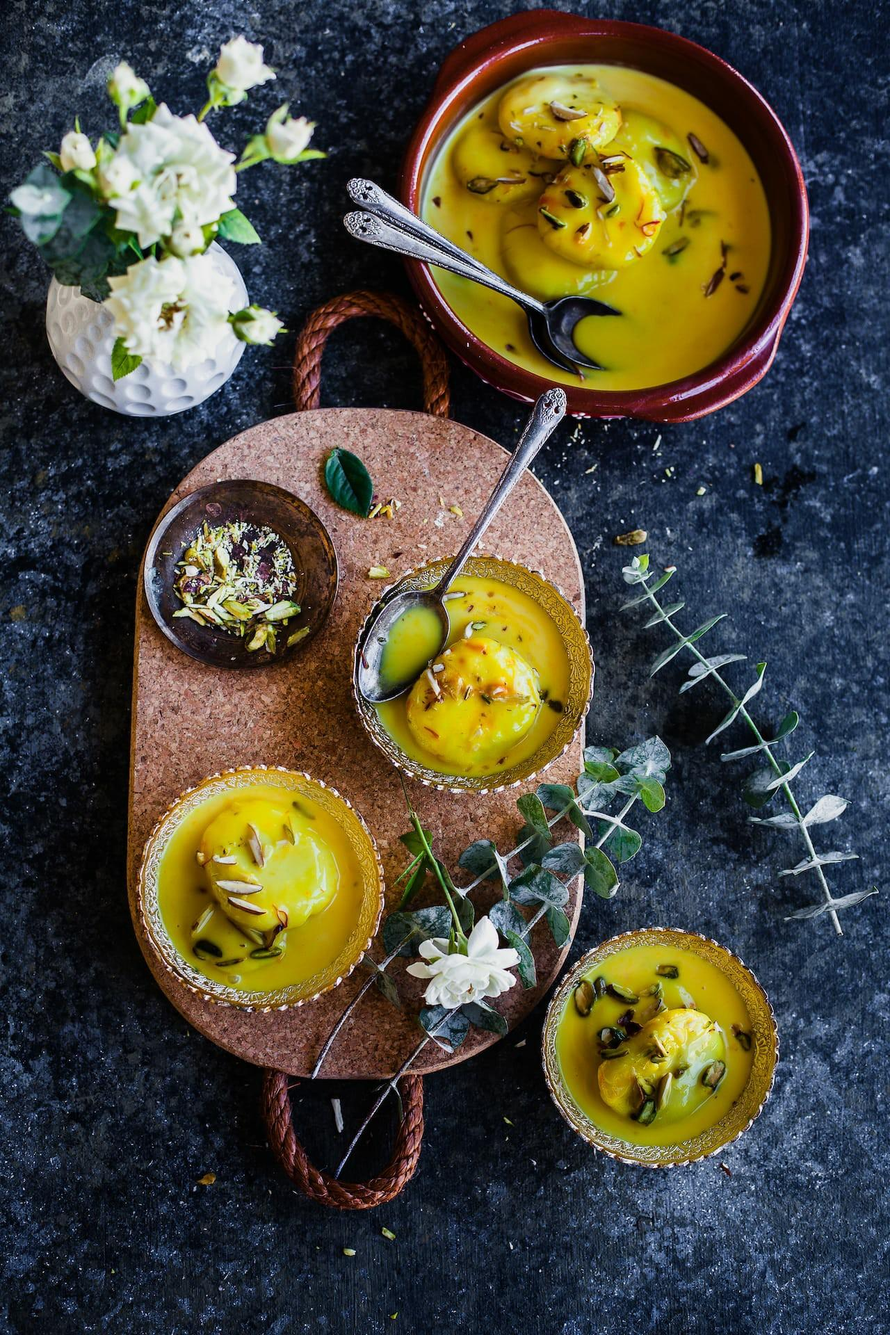RasMalai: (413, 58, 771, 392), (369, 571, 576, 783), (158, 786, 361, 987), (562, 939, 750, 1143)
